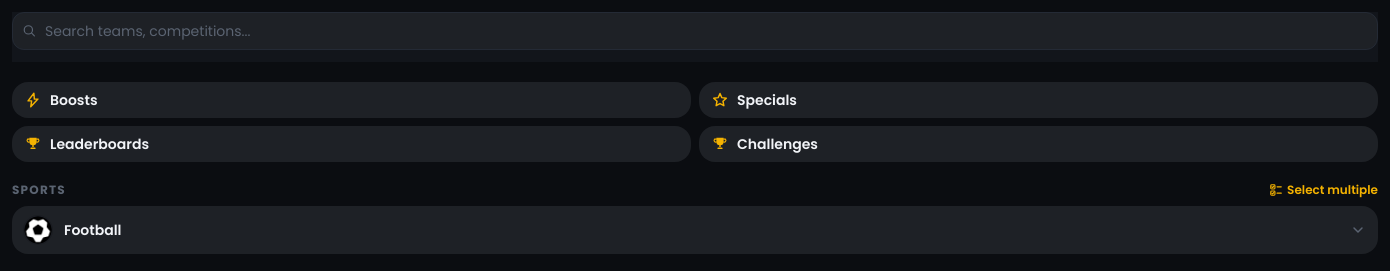
it: Sidebar › shows a "no matches found" message when the search query matches nothing
This screenshot has width=1390, height=271.
Type "nonexistent sport" into the search field named "Search sports and competitions". click: (695, 31)
box: [12,12,1378,50]
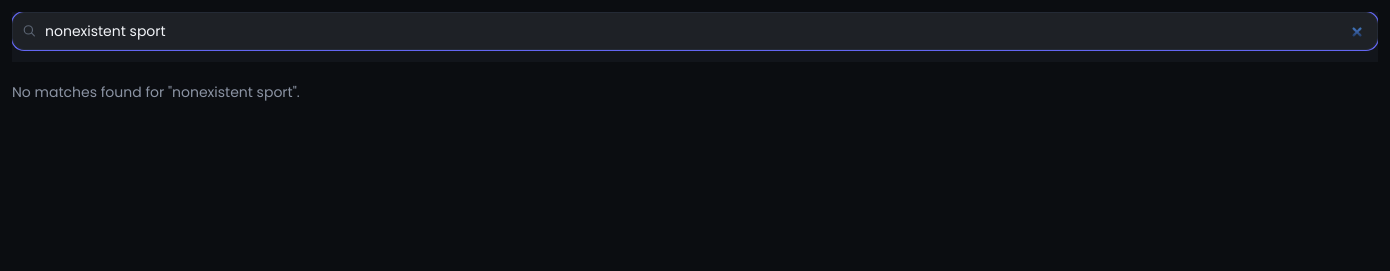
Expected: the text "No matches found for \"nonexistent sport\"." is shown, [12,82,300,102]
